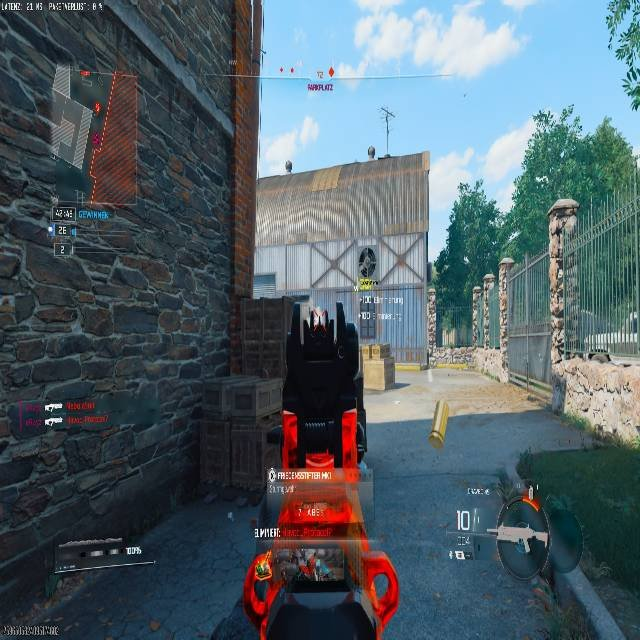head: (366, 247, 374, 255)
player: (358, 247, 376, 282), (284, 159, 293, 173)
